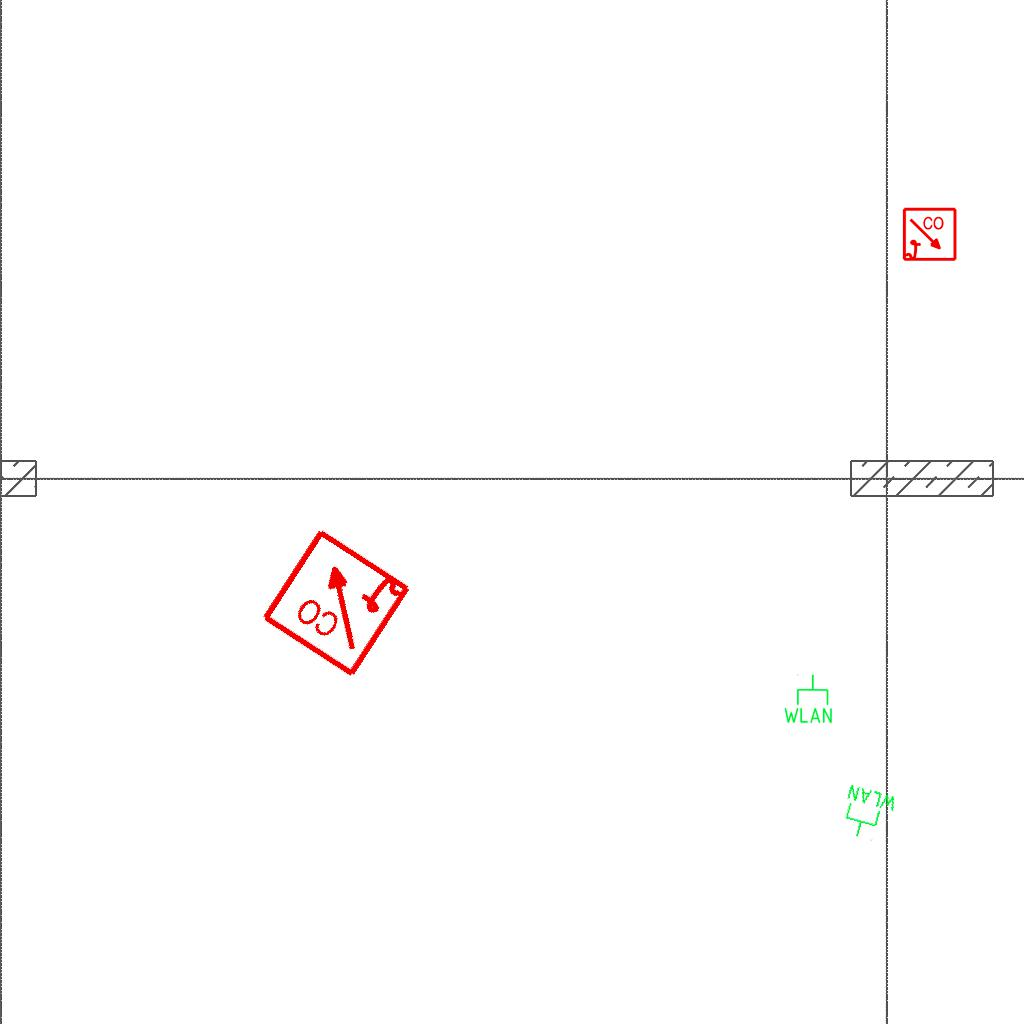ROA_Rauchmelder_optisch_mit_Signalgeber_(Sockelsirene): (258, 523, 415, 680), (902, 207, 958, 263)
WLAN: (836, 782, 900, 846), (782, 673, 834, 725)
